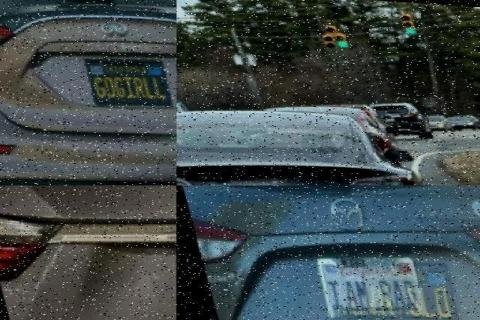LicensePlate: (311, 244, 426, 320), (81, 47, 168, 110)
